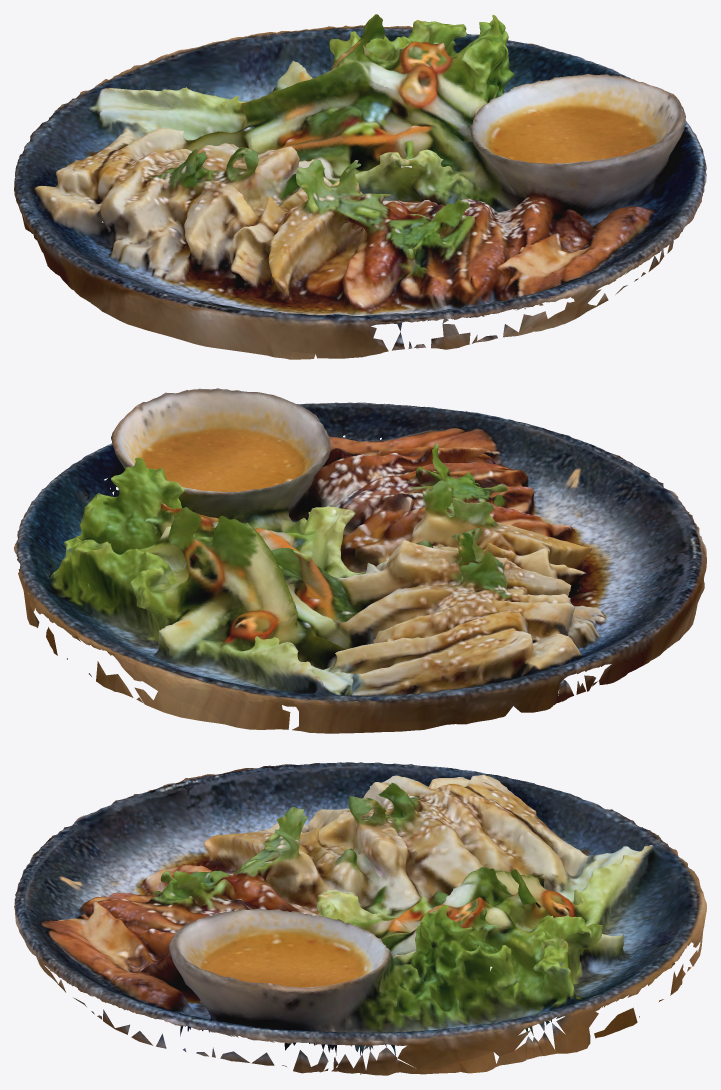
File: chicken.glb
3 views of the same model, one above another, from view 1: azimuth 30°, elevation 25°; view 2: azimuth 150°, elevation 25°; view 3: azimuth 270°, elevation 25° (orthographic).
Visible parts, largest first — view 1: mesh_main_0; view 2: mesh_main_0; view 3: mesh_main_0.
Part boxes in pixels (x1,y1,x2,y2): mesh_main_0: [14, 14, 706, 359]; mesh_main_0: [14, 388, 706, 733]; mesh_main_0: [14, 762, 706, 1075].
Bounding box in the file's own units: 0.2688 × 0.0539 × 0.2711.
Materials: 1 (1 with a texture image).
